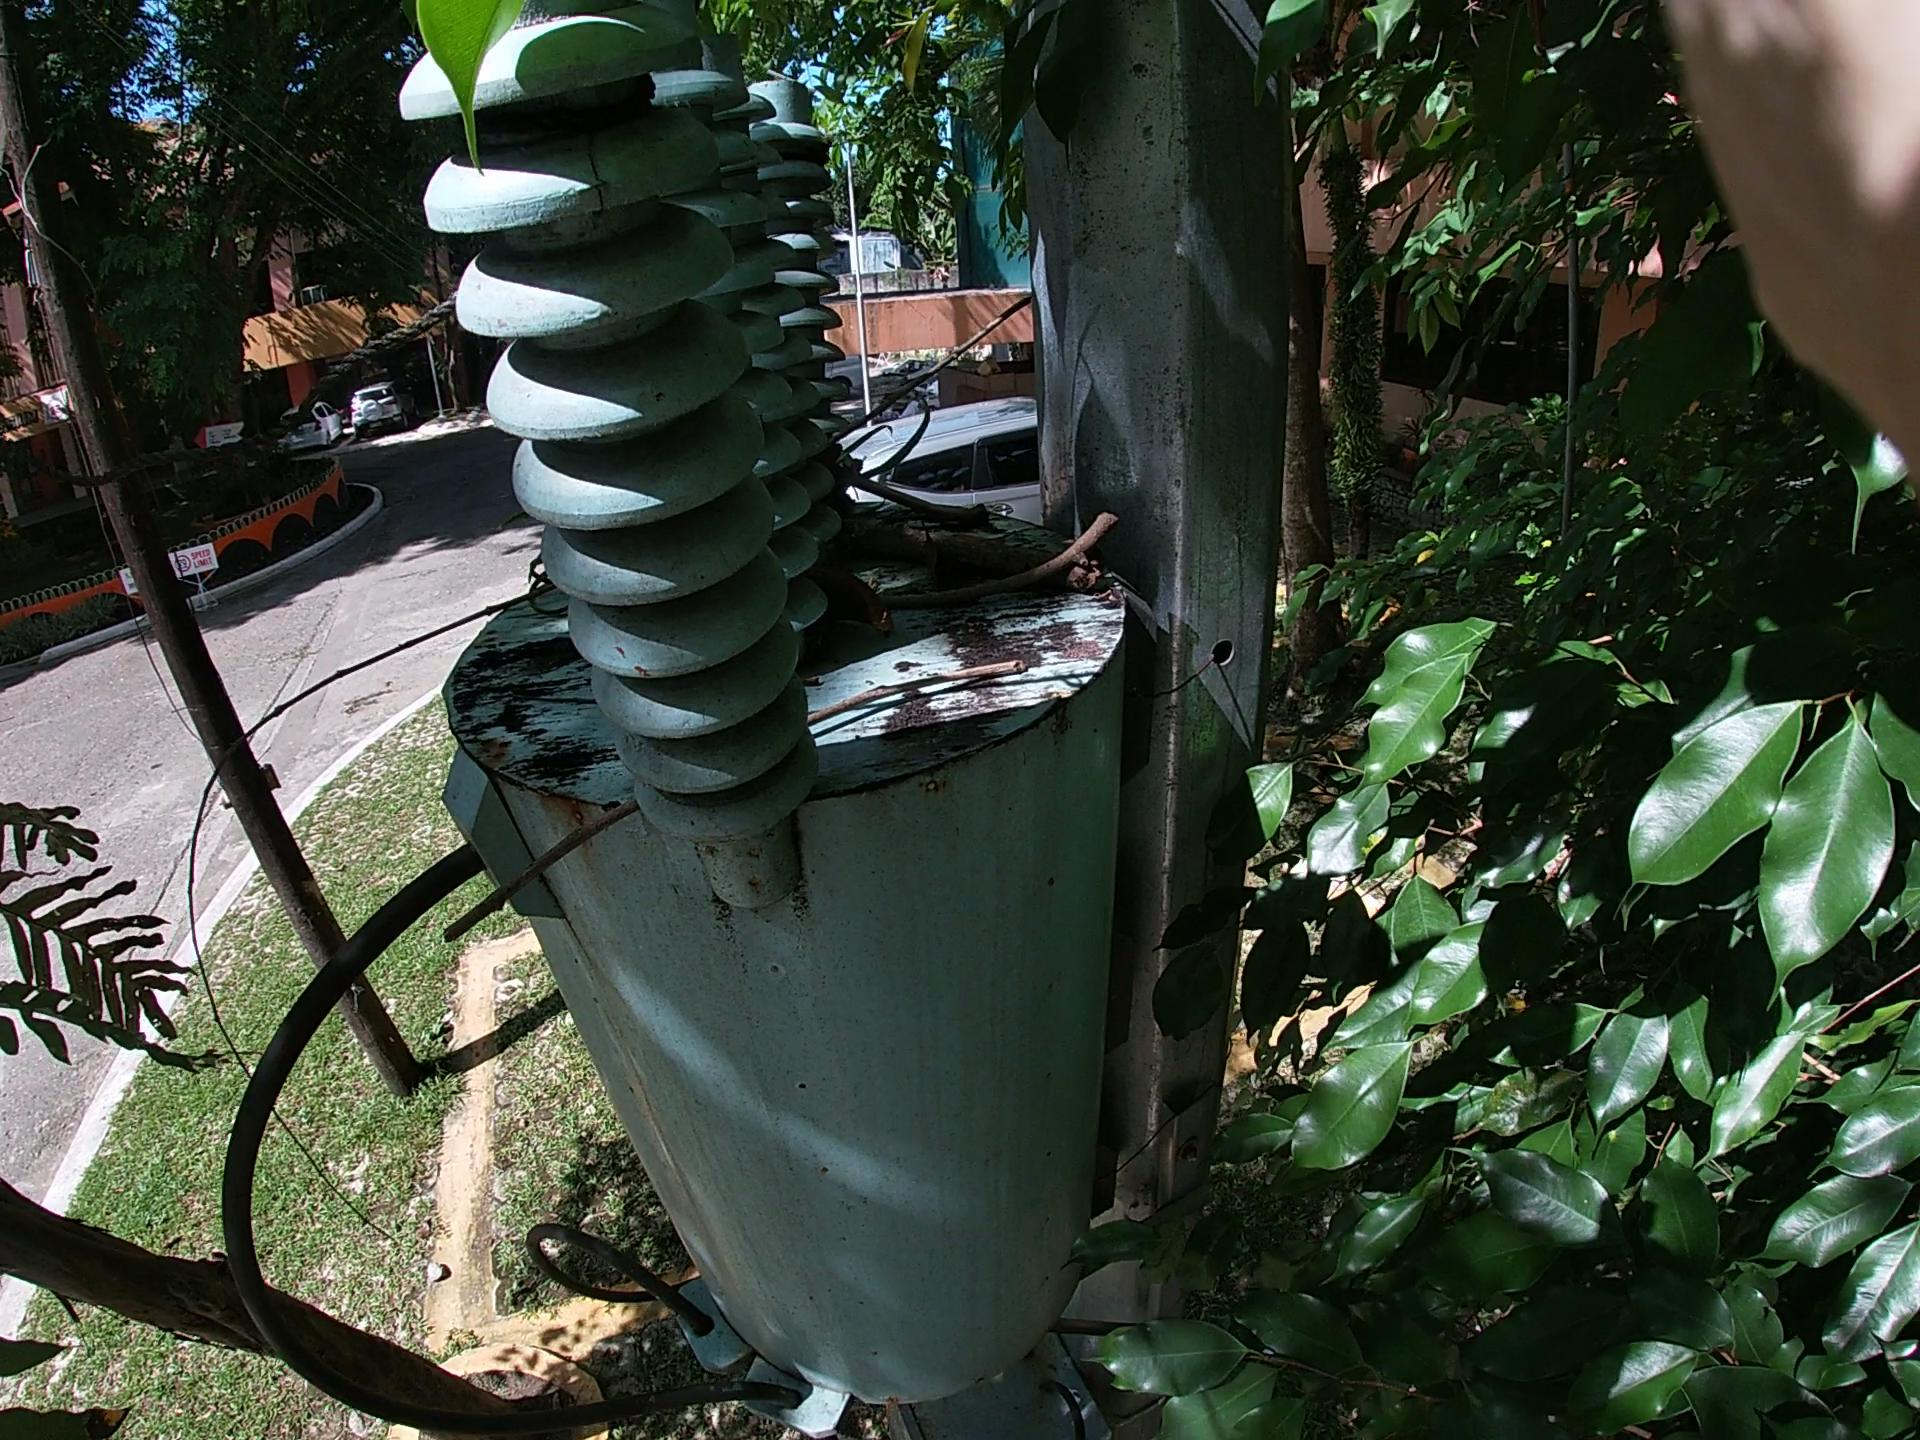branch with leaves: (813, 430, 1119, 554)
leaf: (948, 492, 1072, 672)
tree branch: (429, 632, 1045, 948), (751, 160, 1058, 460), (862, 502, 1137, 664), (777, 399, 1028, 575)
